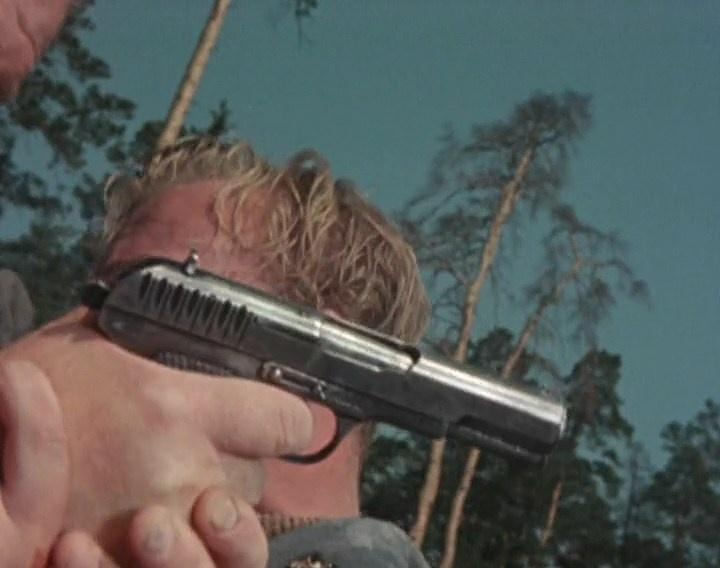gun: (71, 250, 569, 567)
